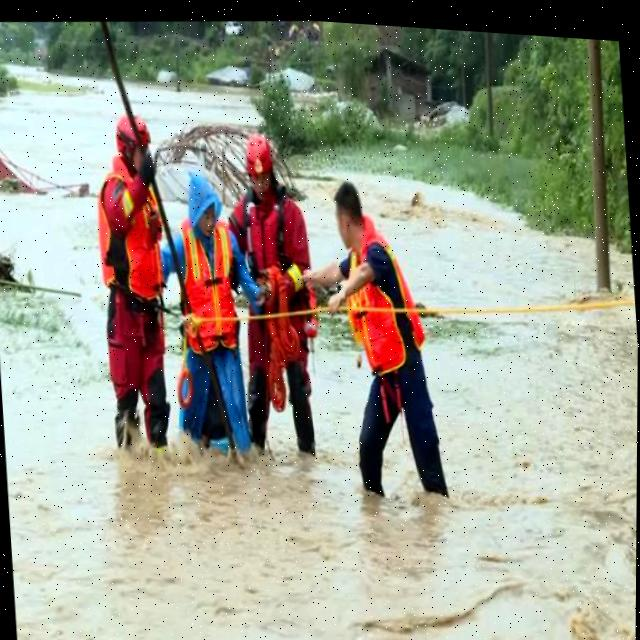civilian: (138, 144, 275, 472)
rescuer: (295, 166, 480, 529), (70, 93, 186, 472), (220, 123, 340, 475)
